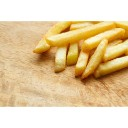frenchfries: (34, 21, 128, 79)
